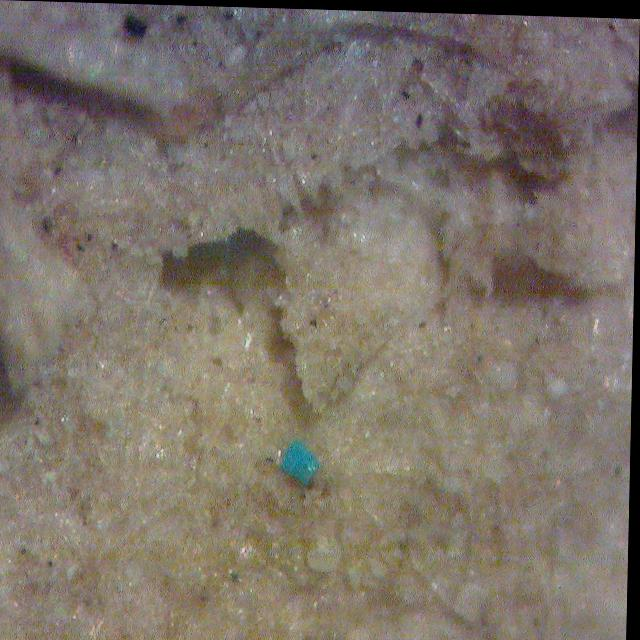microplastic: (276, 435, 329, 487)
